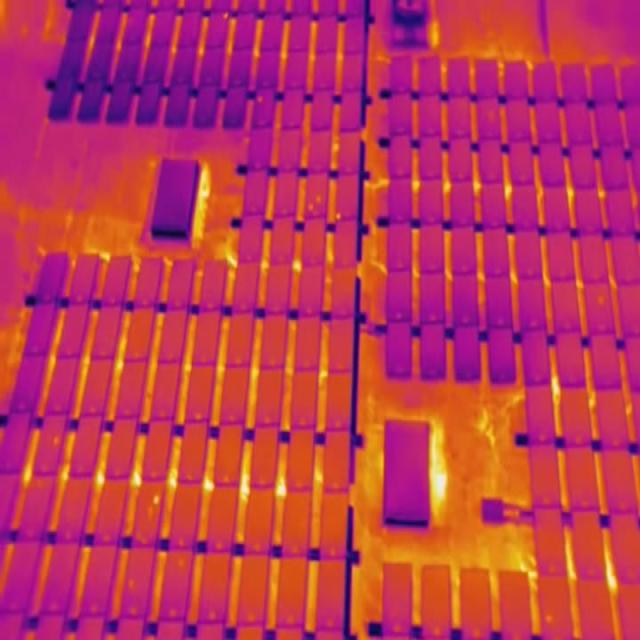Orange-Spots: (152, 496, 160, 504), (53, 437, 60, 444), (334, 213, 342, 219), (308, 204, 314, 211), (223, 12, 229, 19), (316, 196, 322, 202), (258, 96, 263, 103)
